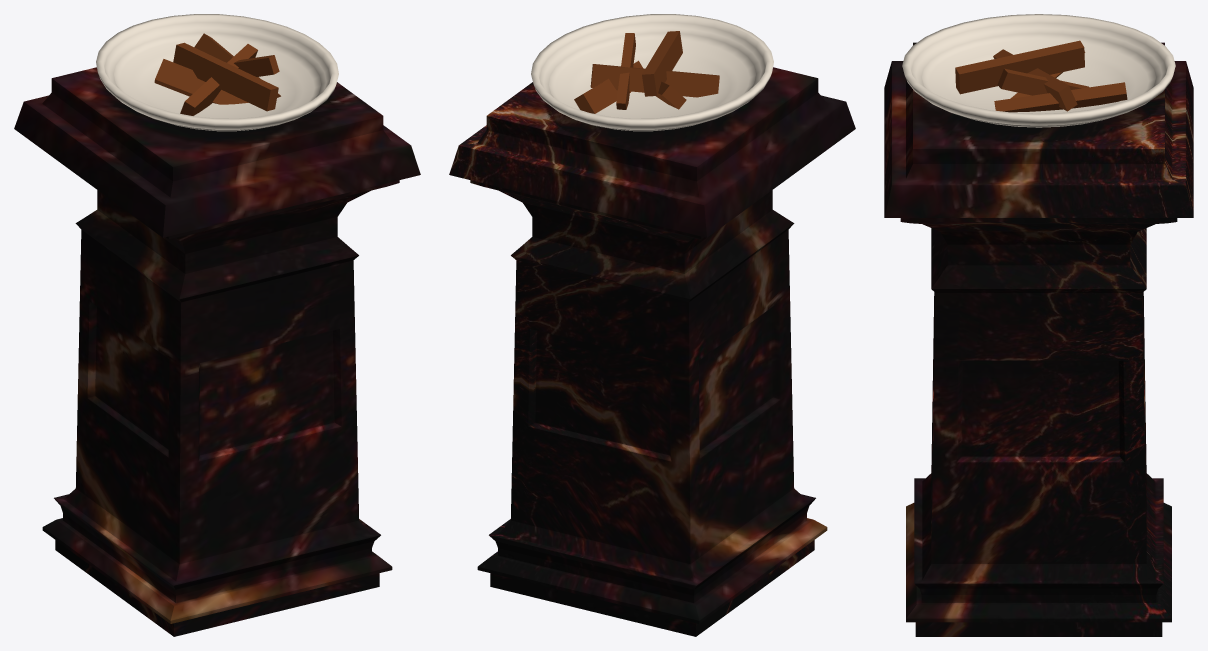
Rendered from Fire.fbx.
3 renders of one model, left to right at view 1: azimuth 30°, elevation 25°; view 2: azimuth 150°, elevation 25°; view 3: azimuth 270°, elevation 25°, orthographic. The views are drawn at different scales.
Visible parts, largest first — view 1: Cube, Sphere, Cube.006; view 2: Cube, Sphere, Cube.006; view 3: Cube, Sphere, Cube.006.
Boxes of the visible parts, x1,y1,x2,y2 form: Cube: (14,67,420,636); Sphere: (96,14,338,131); Cube.006: (154,33,280,115); Cube: (449,67,855,636); Sphere: (531,14,773,131); Cube.006: (574,31,719,113); Cube: (884,42,1193,636); Sphere: (902,14,1175,127); Cube.006: (955,40,1127,112).
Bounding box in the file's own units: 85.22 × 162 × 85.22.
